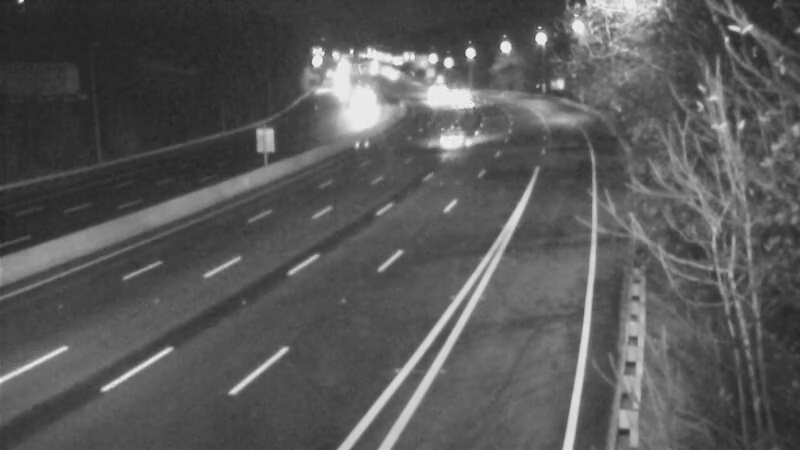vehicle: (403, 74, 453, 124), (435, 71, 485, 121), (438, 81, 488, 131), (425, 114, 475, 164), (331, 82, 381, 132)
